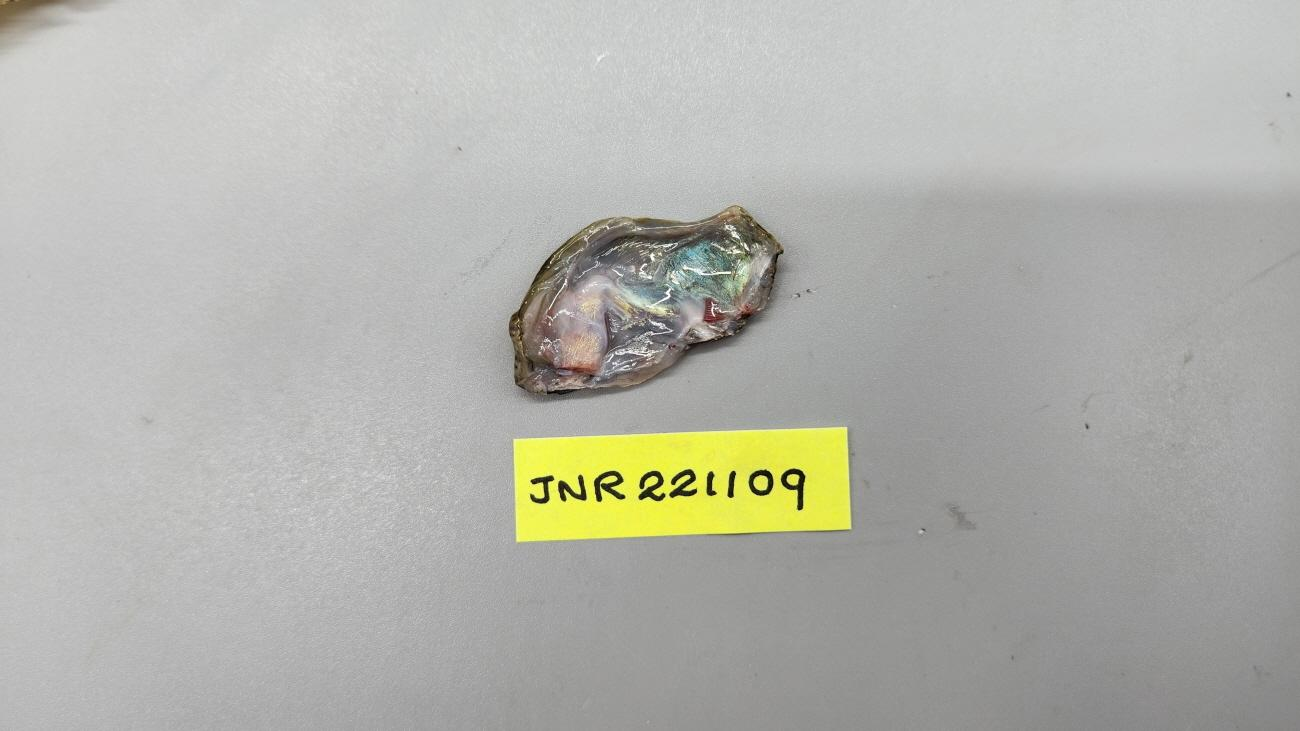POGCN: (508, 205, 783, 395)
